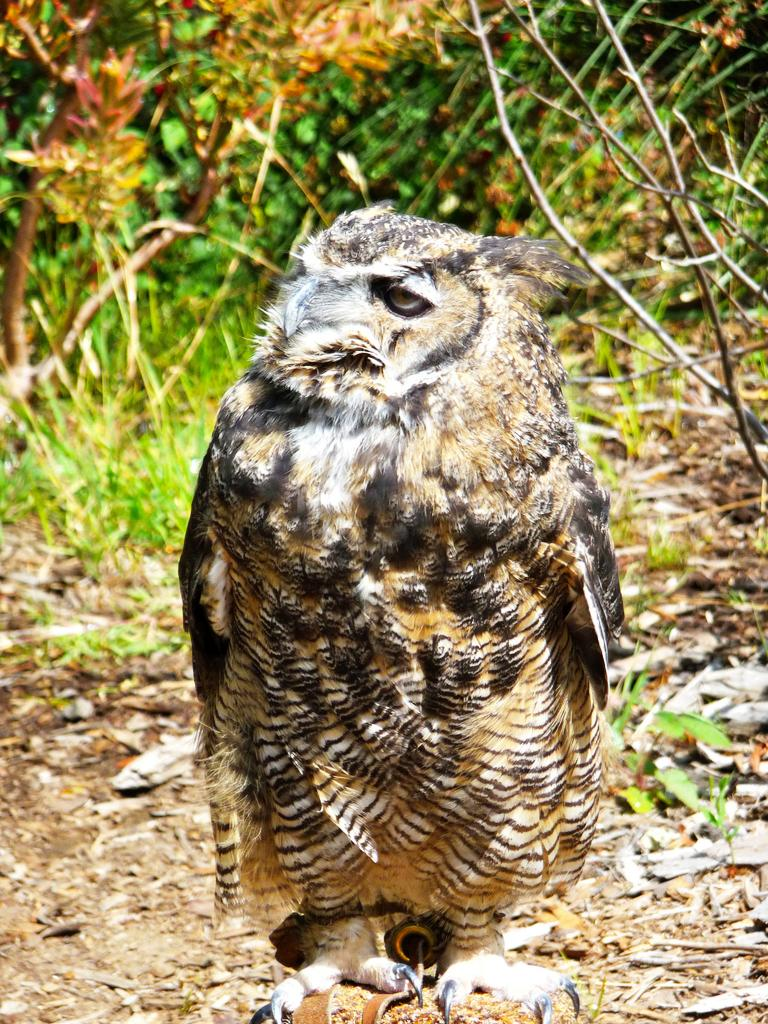Owl: (178, 198, 624, 1024)
